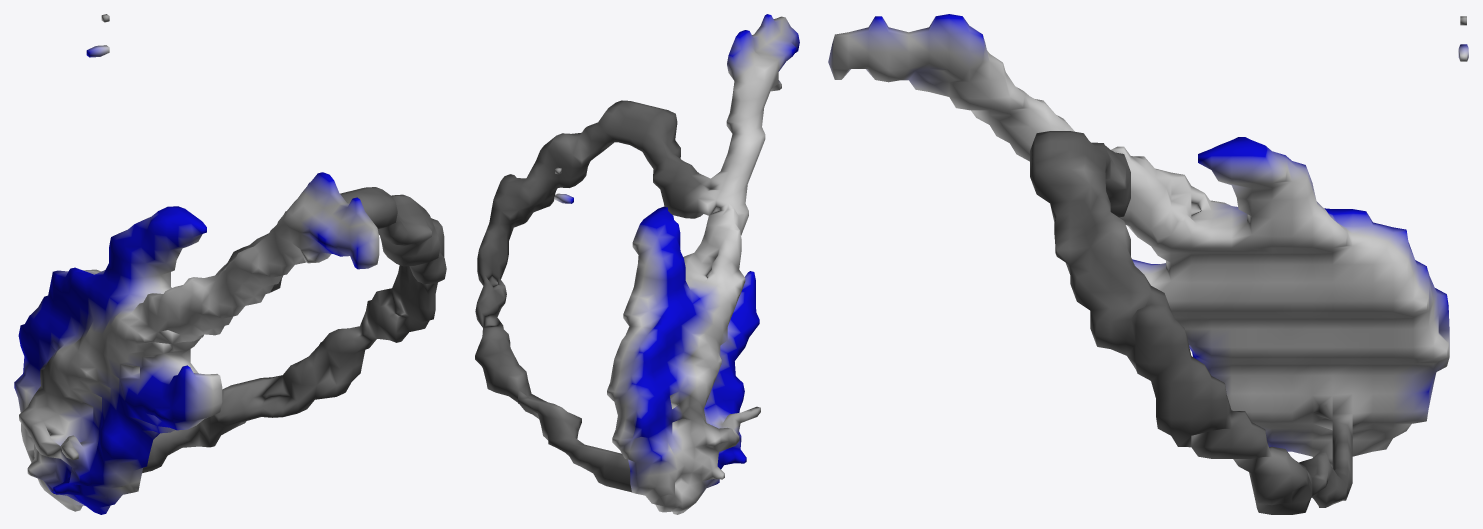
3 renders of one model, left to right at view 1: azimuth 30°, elevation 25°; view 2: azimuth 150°, elevation 25°; view 3: azimuth 270°, elevation 25°, orthographic. The views are drawn at different scales.
Bounding box in the file's own units: 1.14 × 1.38 × 1.59.
